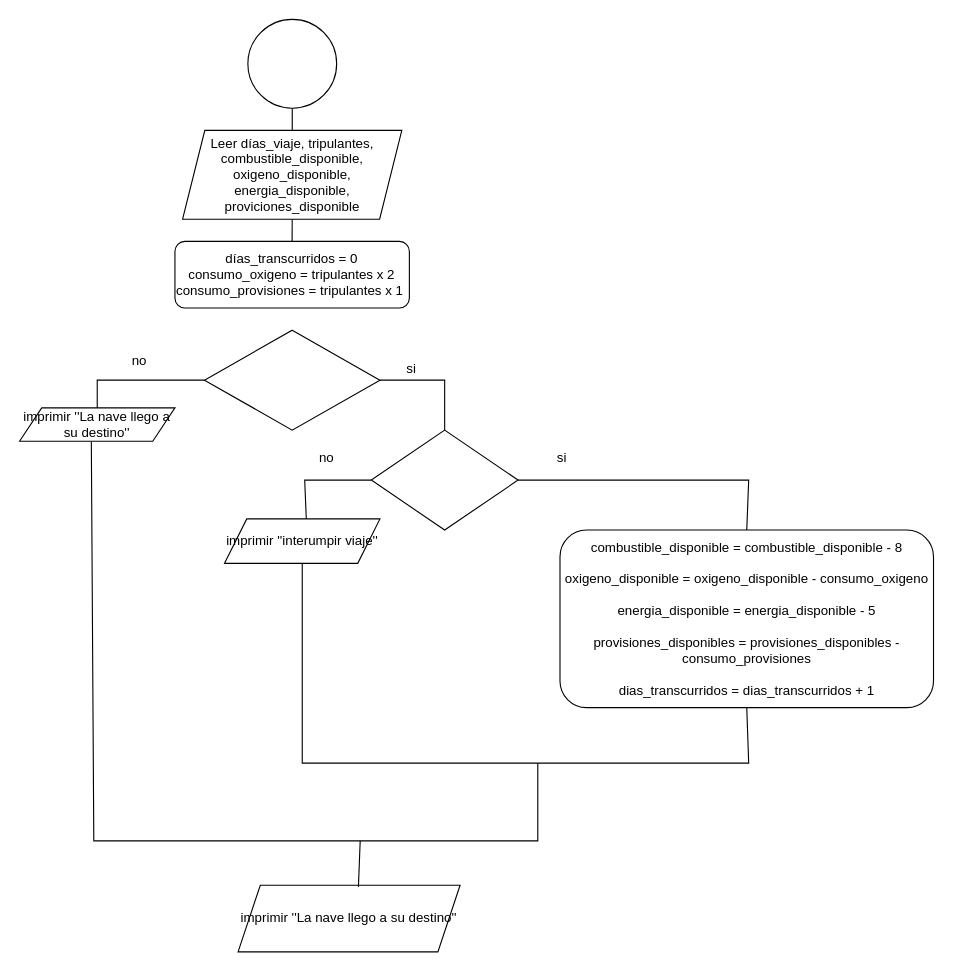
Image size: 953x971. Some labels were removed from this diagram. The shapes that lost their labels are listed below. From the top down, each one's centre as x and y in pixels, then its label:
At (x=292, y=63): "inicio".
At (x=291, y=379): "dias_transcurridos < dias_viaje".
At (x=444, y=479): "Hay recursos suficuentes".
